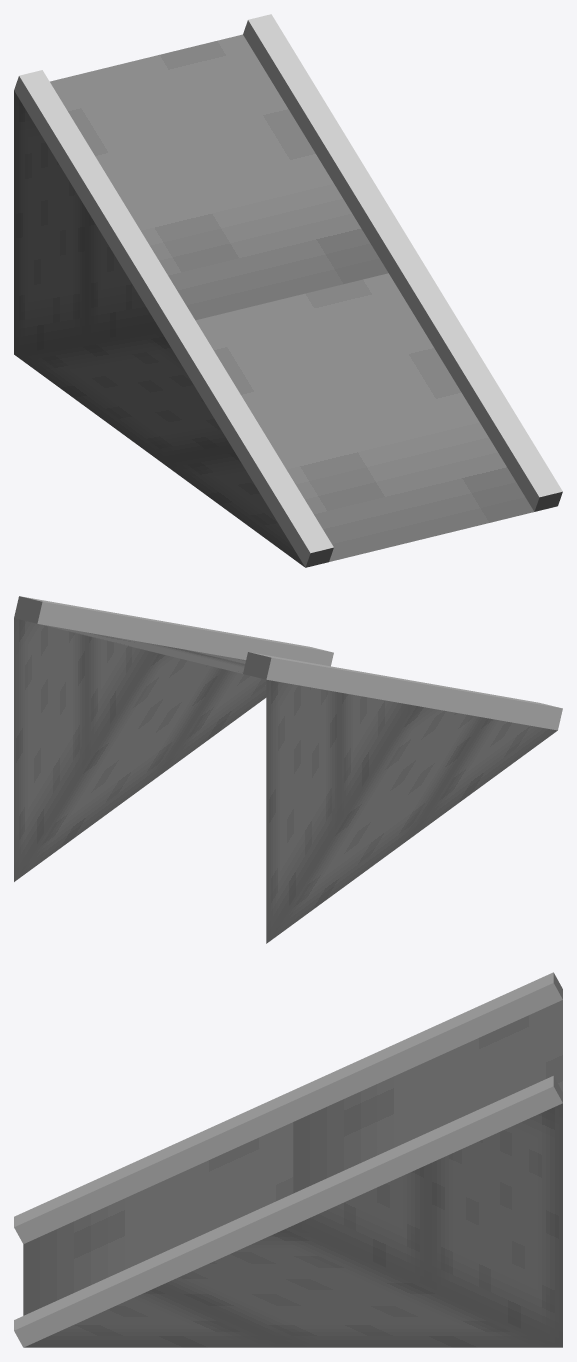
The model's file is StairColmesh.obj.
3 renders of one model, top to bottom at view 1: azimuth 30°, elevation 25°; view 2: azimuth 150°, elevation 25°; view 3: azimuth 270°, elevation 25°, orthographic. The views are drawn at different scales.
Visible parts, largest first — view 1: Plane.018_Wall.001; view 2: Plane.018_Wall.001; view 3: Plane.018_Wall.001.
Part boxes in pixels (x1,y1,x2,y2): Plane.018_Wall.001: (14,14,562,567); Plane.018_Wall.001: (14,596,562,943); Plane.018_Wall.001: (14,972,562,1347).
Bounding box in the file's own units: 64 × 68.44 × 130.
